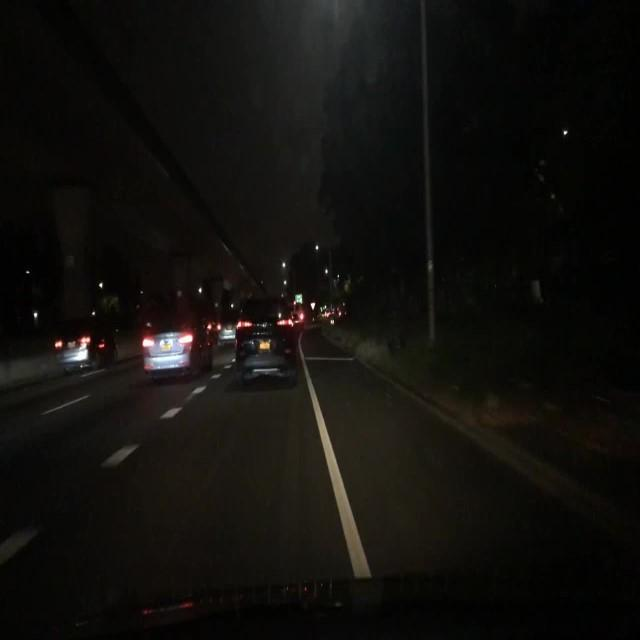normal: (21, 288, 327, 392)
